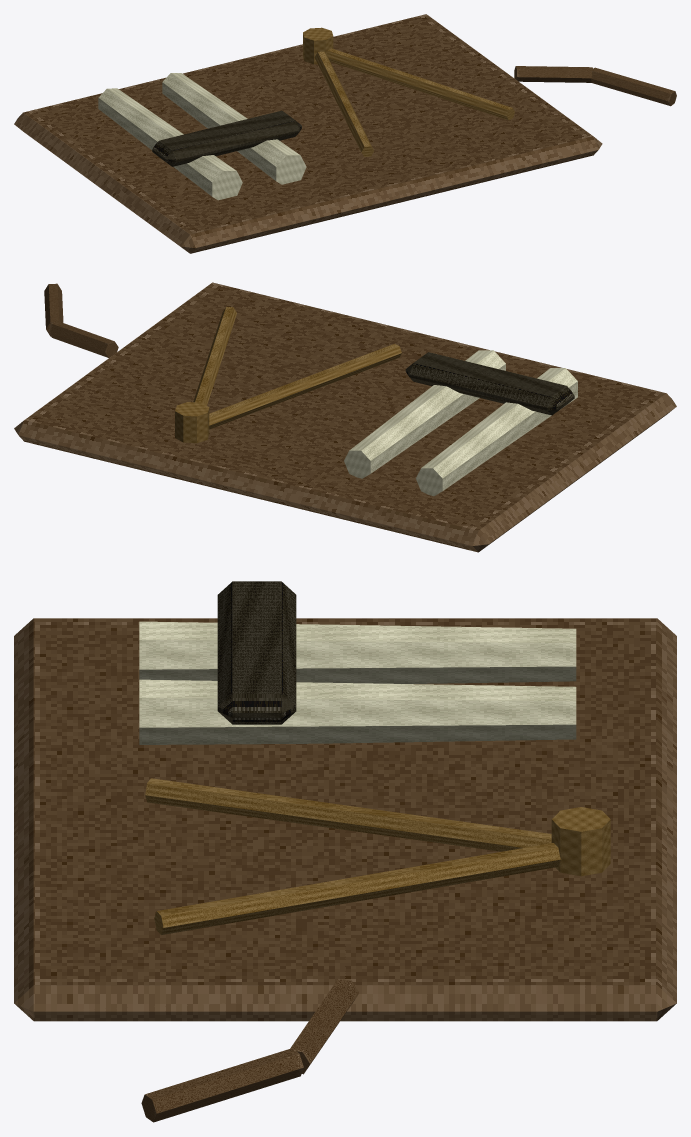
Rendered from blender_chalk_sigil_kit_2.glb.
3 renders of one model, top to bottom at view 1: azimuth 30°, elevation 25°; view 2: azimuth 150°, elevation 25°; view 3: azimuth 270°, elevation 25°, orthographic. The views are drawn at different scales.
Parts seen in each view (by area): view 1: blender_chalk_sigil_kit_2; view 2: blender_chalk_sigil_kit_2; view 3: blender_chalk_sigil_kit_2.
Boxes of the visible parts, x1,y1,x2,y2 form: blender_chalk_sigil_kit_2: [14, 14, 676, 253]; blender_chalk_sigil_kit_2: [14, 282, 676, 552]; blender_chalk_sigil_kit_2: [14, 581, 676, 1122].
Size of the model in its own units: 0.2321 by 0.0235 by 0.135.
4 materials, 4 textured.
